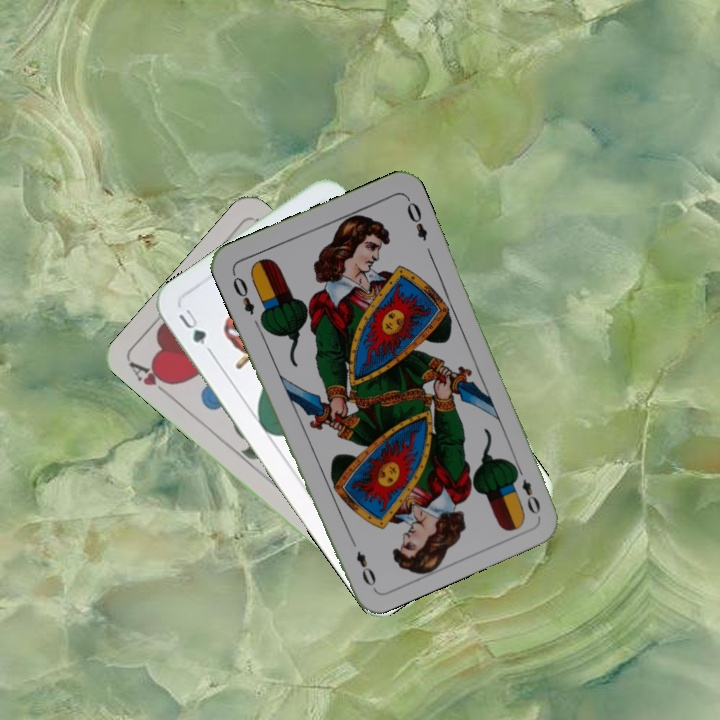EO: (511, 461, 543, 517), (228, 268, 257, 318)
GU: (174, 304, 209, 348)
HA: (125, 358, 176, 401)
